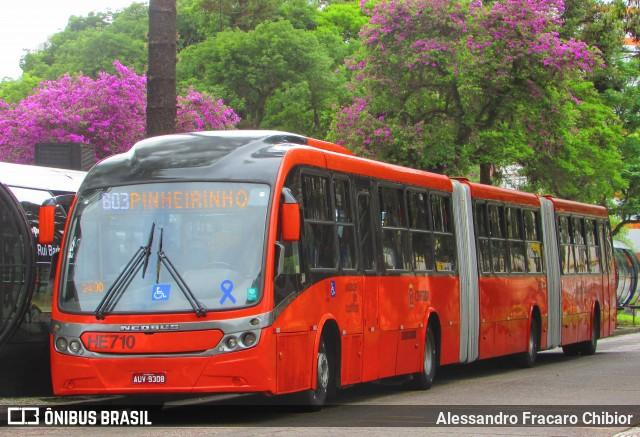PINHEIRINHO: (127, 185, 251, 211)
